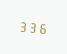six: (37, 20, 45, 34)
three: (18, 18, 26, 33), (28, 19, 36, 34)
